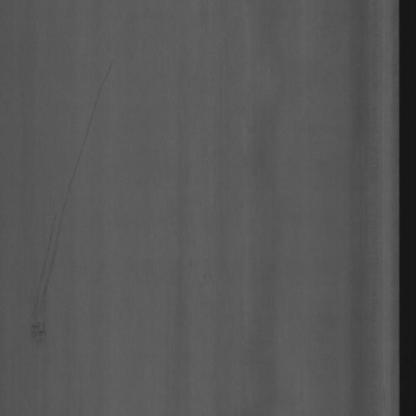water_spot: (20, 181, 79, 358)
